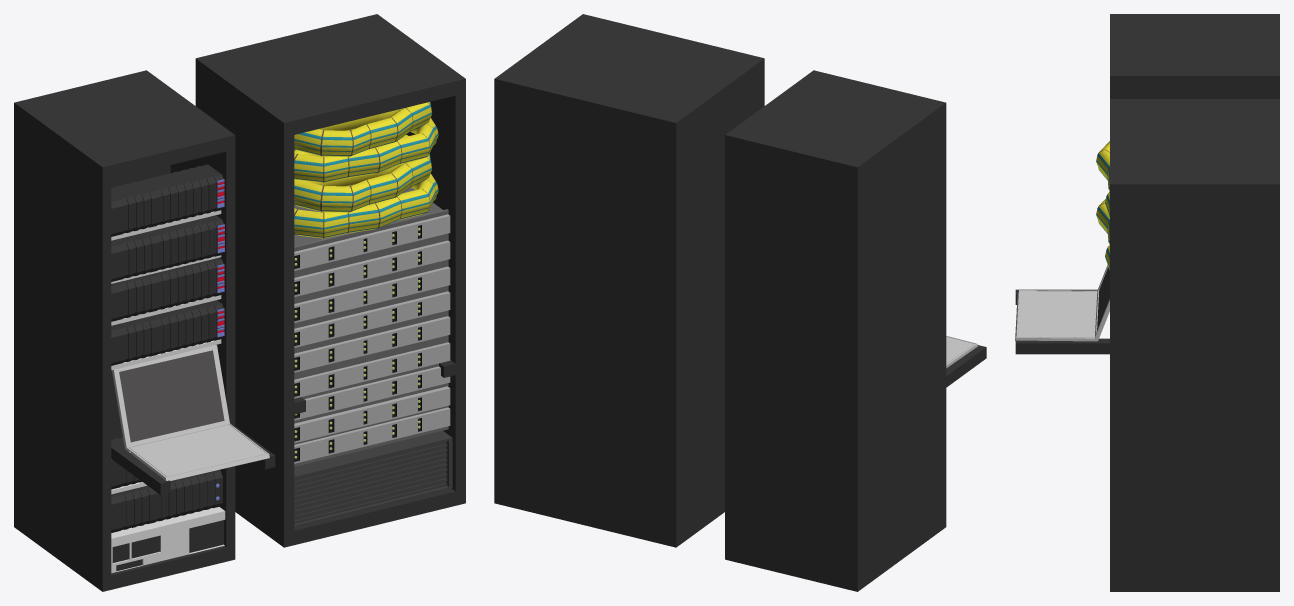
The model's file is ServerRoom.fbx.
3 views of the same model, side by side, from view 1: azimuth 30°, elevation 25°; view 2: azimuth 150°, elevation 25°; view 3: azimuth 270°, elevation 25° (orthographic). The views are drawn at different scales.
Parts seen in each view (by area): view 1: Cube.224, Cube.288, Cube.226, Cube.305, Cube.262, Cube.233, Cube.275, Cube.248, Torus.003, Torus, Cube.249, Cube.234 (+17 smaller); view 2: Cube.288, Cube.224; view 3: Cube.288, Cube.224, Cube.226, Torus.002.
Boxes of the visible parts, x1,y1,x2,y2 form: Cube.224: (14,70,275,591); Cube.288: (195,14,465,547); Cube.226: (112,345,269,480); Cube.305: (294,430,452,527); Cube.262: (111,164,224,236); Cube.233: (111,507,225,573); Cube.275: (111,215,224,281); Cube.248: (111,300,224,365); Torus.003: (294,108,438,182); Torus: (294,163,438,238); Cube.249: (111,257,224,321); Cube.234: (111,470,222,532); Cube.288: (494,14,764,547); Cube.224: (725,70,986,591); Cube.288: (1110,99,1279,591); Cube.224: (1015,14,1279,354); Cube.226: (1015,265,1109,341); Torus.002: (1096,141,1109,191).
Bounding box in the file's own units: 1331 × 1486 × 875.
